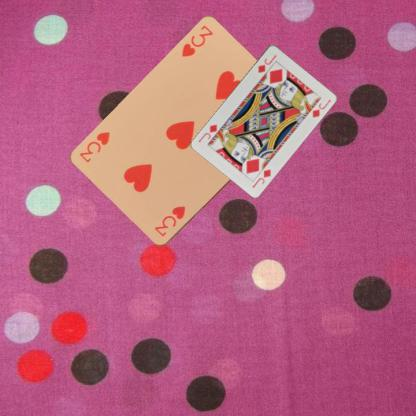3h: (152, 203, 188, 238), (179, 22, 214, 58)
Jd: (255, 52, 278, 74), (250, 166, 272, 189)
